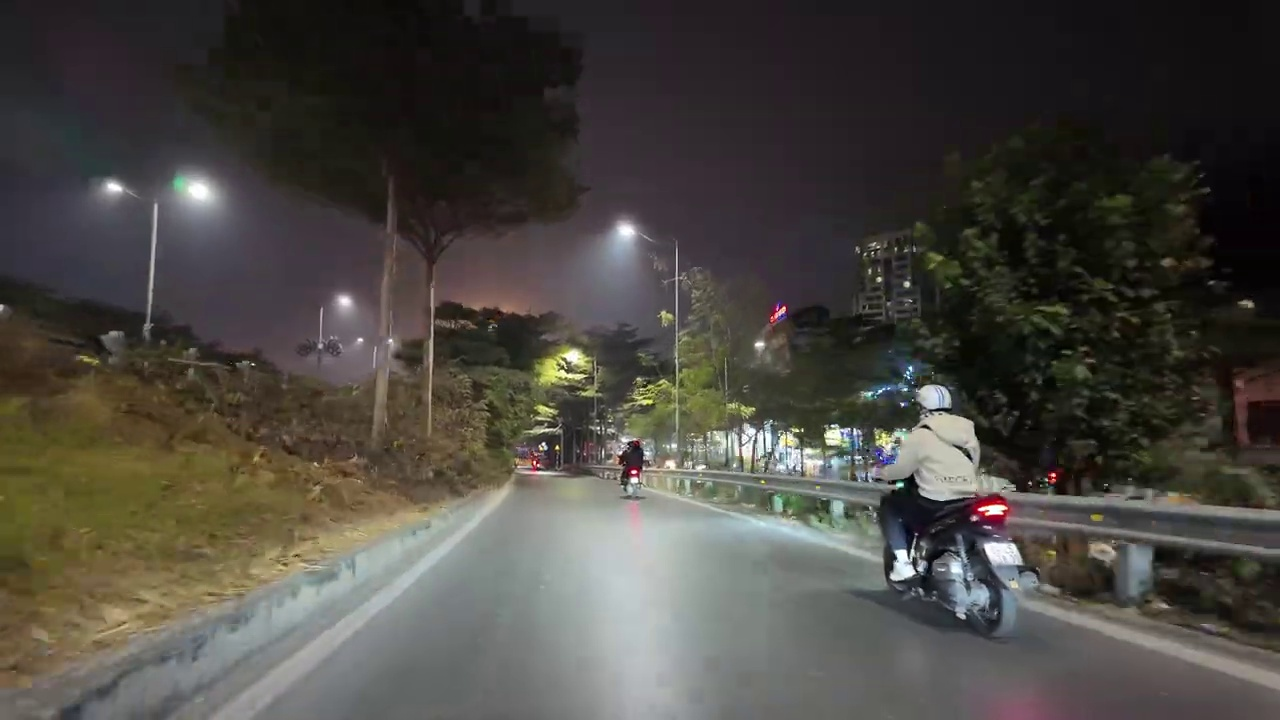acesa: (602, 218, 642, 266), (174, 172, 221, 210), (96, 175, 131, 205), (608, 218, 640, 250), (331, 291, 360, 319)
